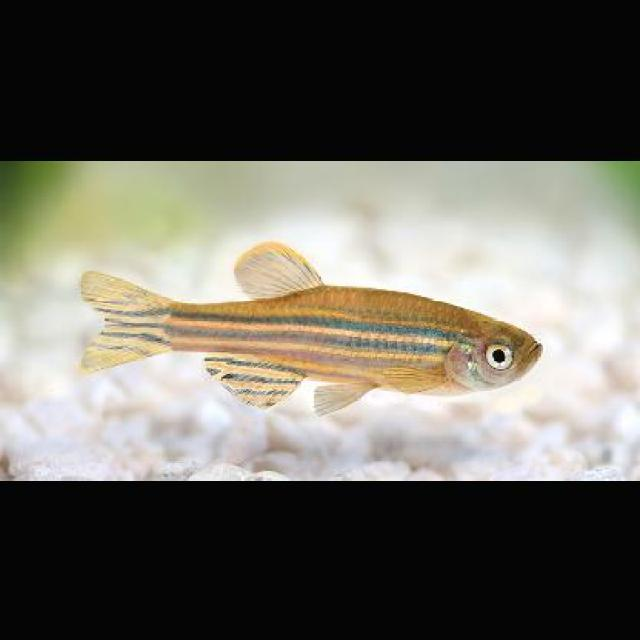ZebraFish: (74, 238, 541, 414)
